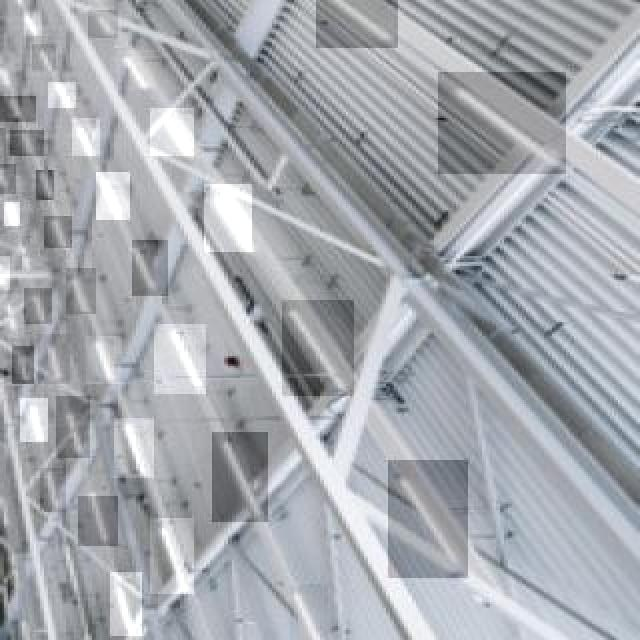fluorescent tube: (447, 76, 557, 162), (387, 446, 455, 569), (286, 280, 337, 400), (306, 0, 416, 52), (198, 176, 258, 269), (158, 320, 207, 402), (227, 429, 269, 522), (111, 413, 154, 487), (99, 572, 144, 640), (160, 520, 195, 595), (51, 400, 94, 456), (129, 233, 162, 305), (85, 331, 122, 389), (62, 258, 102, 311), (113, 51, 151, 104), (84, 0, 128, 44), (135, 240, 167, 295), (0, 92, 38, 122), (40, 215, 65, 260), (2, 125, 45, 151), (100, 175, 122, 218)
